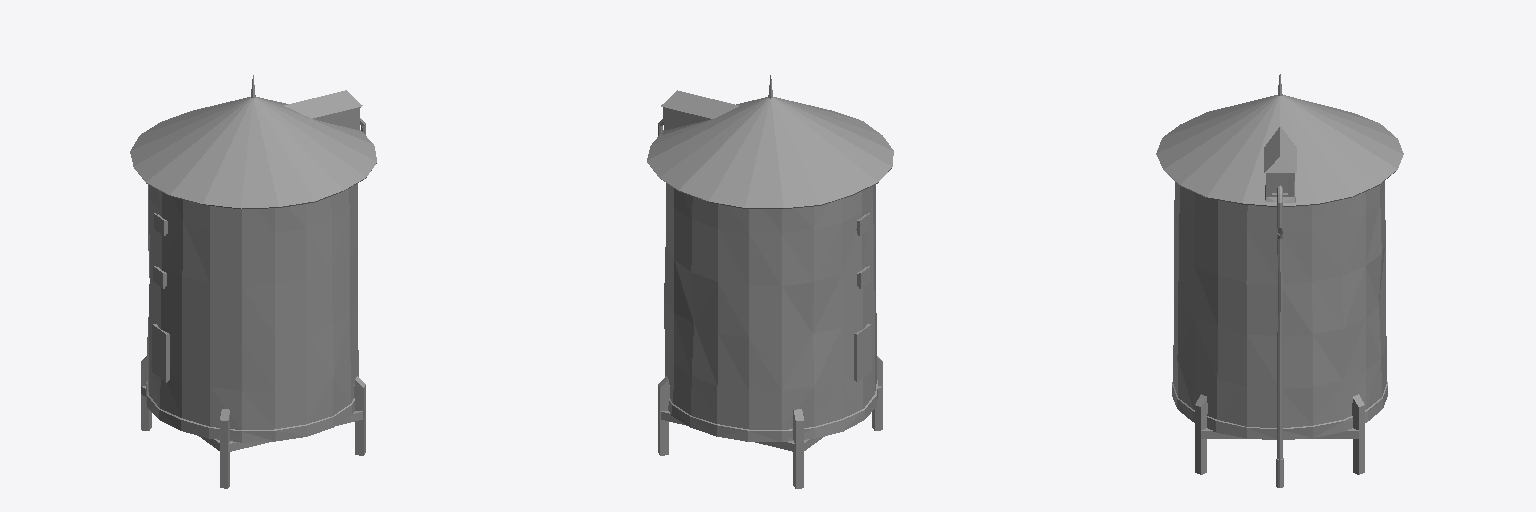
The model's file is silo_tower.obj.
3 renders of one model, left to right at view 1: azimuth 30°, elevation 25°; view 2: azimuth 150°, elevation 25°; view 3: azimuth 270°, elevation 25°, orthographic.
Parts seen in each view (by area): view 1: vertices.001_vertices.096; view 2: vertices.001_vertices.096; view 3: vertices.001_vertices.096.
Boxes of the visible parts, x1,y1,x2,y2 form: vertices.001_vertices.096: [130, 75, 376, 488]; vertices.001_vertices.096: [647, 75, 893, 488]; vertices.001_vertices.096: [1156, 74, 1403, 487].
Bounding box in the file's own units: 7.88 × 12.64 × 7.68.